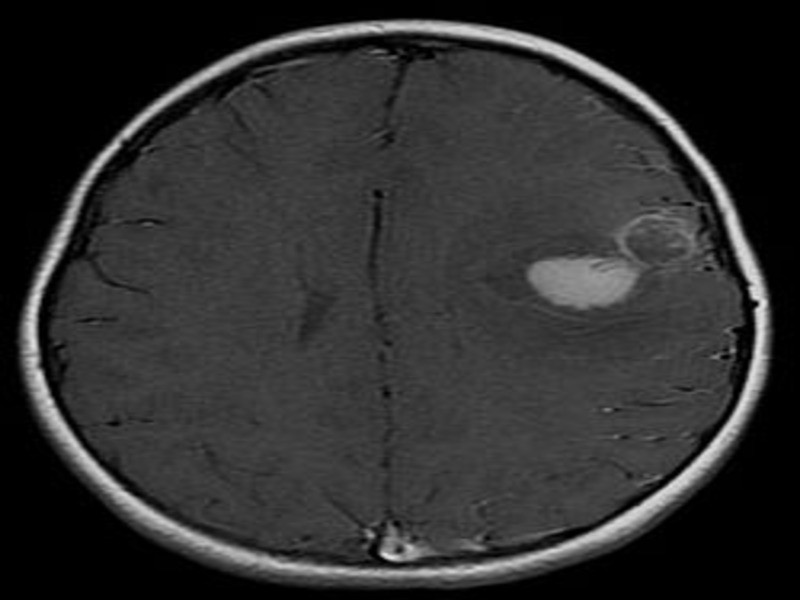tumor: (519, 204, 702, 324)
